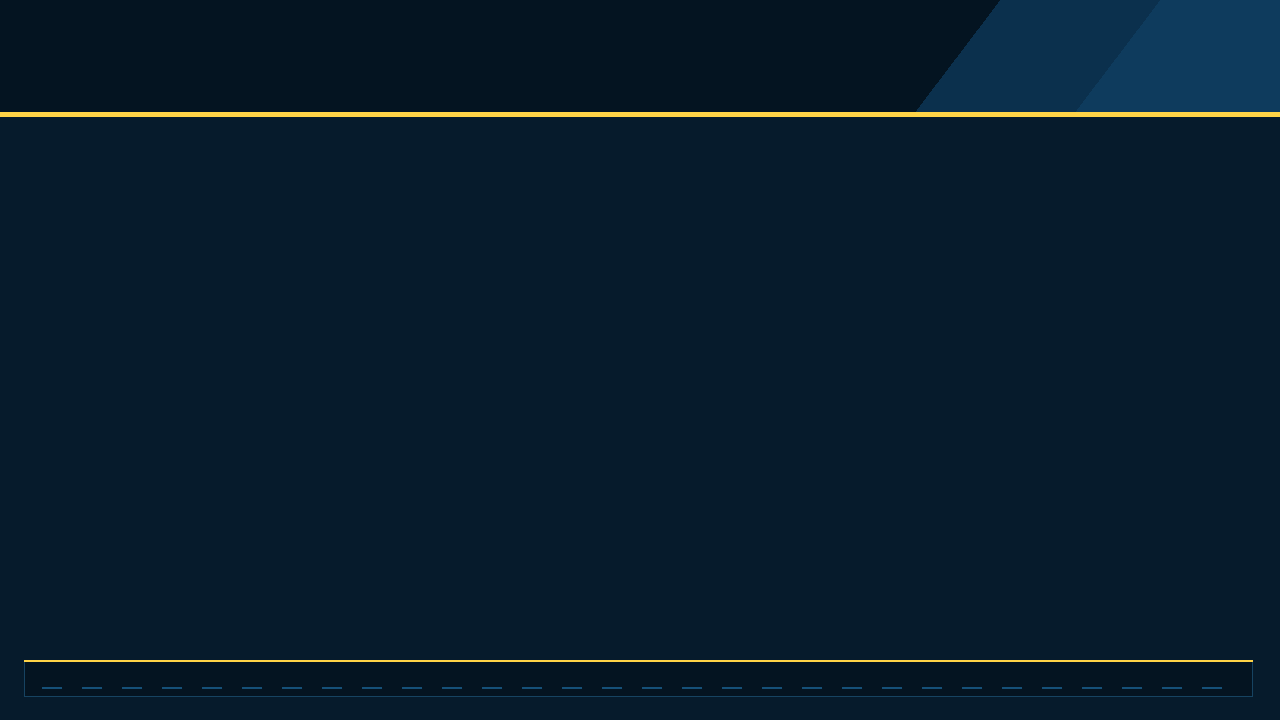

Layout of this report page (visuals, bound fields, positions):
{"tool":"powerbi","page":{"name":"Methodology & Sources","canvas":[1280,720],"ordinal":3},"visuals":[{"type":"textbox","box":[24.6,9.4,340.2,45.4],"z":1041},{"type":"textbox","box":[24,30,430,48],"z":1042},{"type":"textbox","box":[24,80,620,25],"z":1043},{"type":"textbox","box":[41.6,669,230.6,32.1],"z":1044},{"type":"textbox","box":[1035.6,669,189,32.1],"z":1045},{"type":"textbox","box":[24.6,134.2,340.2,30.2],"z":1046},{"type":"textbox","box":[24,170,585,190],"z":1047},{"type":"textbox","box":[640,135,260,30],"z":1048},{"type":"textbox","box":[640,170,612,190],"z":1049},{"type":"textbox","box":[24,390,260,30],"z":1050},{"type":"textbox","box":[24,425,585,210],"z":1051},{"type":"textbox","box":[640.6,389.3,291,30.2],"z":1052},{"type":"textbox","box":[640,425,612,210],"z":1053},{"type":"textbox","box":[289.1,669,701.1,32.1],"z":1054}]}

Visuals, with their boxes in screenshot pixels (x1, y1, x2, y2), scaled from the page's 1280x720 canvas onto the 1280x720 screenshot:
textbox: bbox=(25, 9, 365, 55)
textbox: bbox=(24, 30, 454, 78)
textbox: bbox=(24, 80, 644, 105)
textbox: bbox=(42, 669, 272, 701)
textbox: bbox=(1036, 669, 1225, 701)
textbox: bbox=(25, 134, 365, 164)
textbox: bbox=(24, 170, 609, 360)
textbox: bbox=(640, 135, 900, 165)
textbox: bbox=(640, 170, 1252, 360)
textbox: bbox=(24, 390, 284, 420)
textbox: bbox=(24, 425, 609, 635)
textbox: bbox=(641, 389, 932, 420)
textbox: bbox=(640, 425, 1252, 635)
textbox: bbox=(289, 669, 990, 701)
